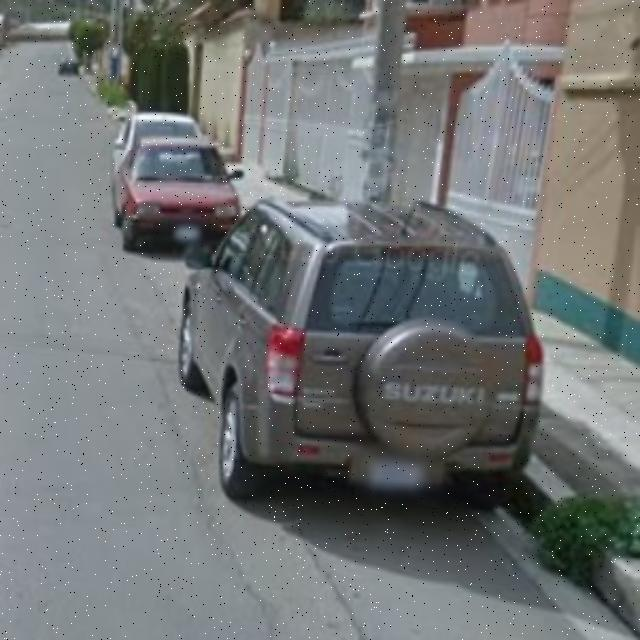cars: (191, 194, 548, 519), (113, 124, 246, 248)
